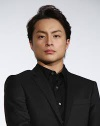male: (24, 7, 76, 71)
